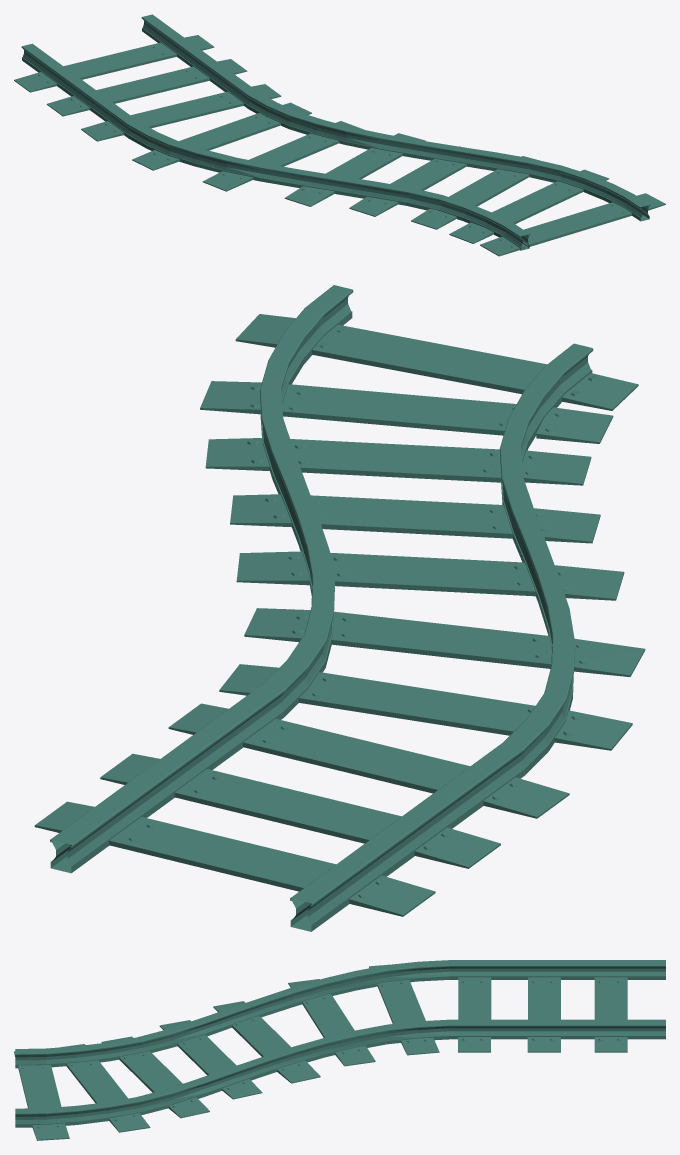
Rendered from Curvo IZ-UV.fbx.
3 renders of one model, top to bottom at view 1: azimuth 30°, elevation 25°; view 2: azimuth 150°, elevation 25°; view 3: azimuth 270°, elevation 25°, orthographic. The views are drawn at different scales.
Visible parts, largest first — view 1: Curvo_Izquierdo; view 2: Curvo_Izquierdo; view 3: Curvo_Izquierdo.
Part boxes in pixels (bbox=[...]): Curvo_Izquierdo: bbox=[14, 14, 665, 256]; Curvo_Izquierdo: bbox=[34, 285, 645, 931]; Curvo_Izquierdo: bbox=[14, 960, 665, 1140].
Bounding box in the file's own units: 7.62 × 0.2888 × 11.68.
